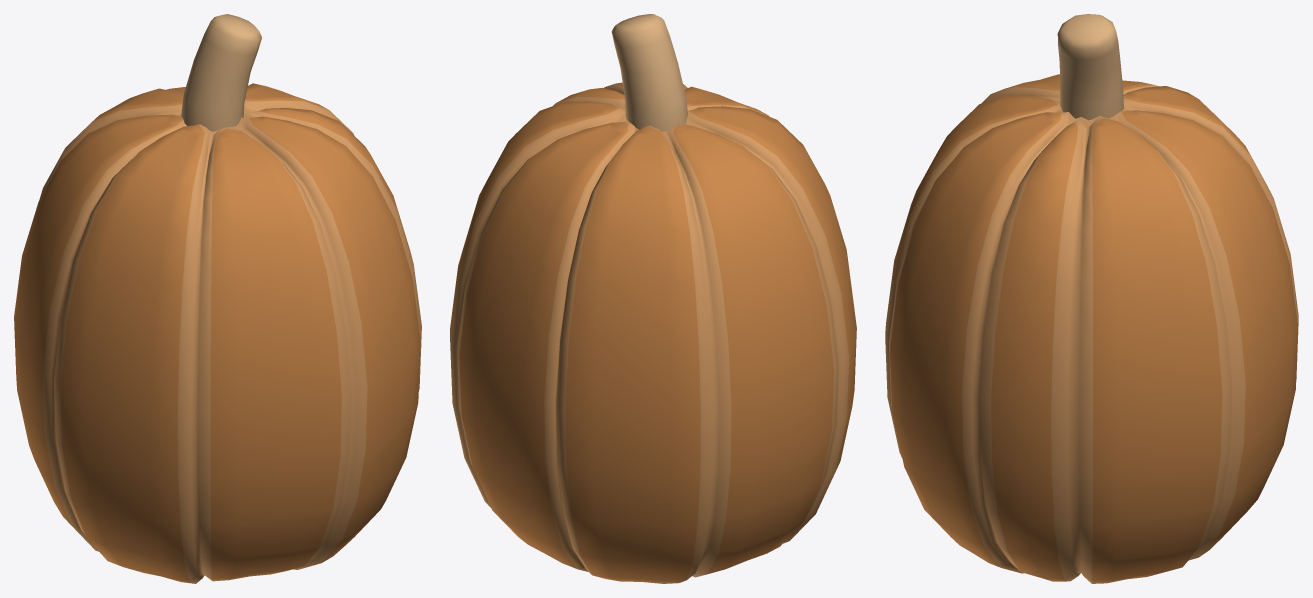
File: Pumpkin_03.dae
The picture shows the model from 3 angles, left to right: view 1: azimuth 30°, elevation 25°; view 2: azimuth 150°, elevation 25°; view 3: azimuth 270°, elevation 25°; orthographic projection.
Parts seen in each view (by area): view 1: Pumpkin_03_LOD0; view 2: Pumpkin_03_LOD0; view 3: Pumpkin_03_LOD0.
Part boxes in pixels (x1,y1,x2,y2): Pumpkin_03_LOD0: (14, 14, 421, 583); Pumpkin_03_LOD0: (450, 14, 856, 583); Pumpkin_03_LOD0: (885, 14, 1298, 583).
Size of what is drawn, in the model's own units: 4.89 by 4.85 by 6.92.
